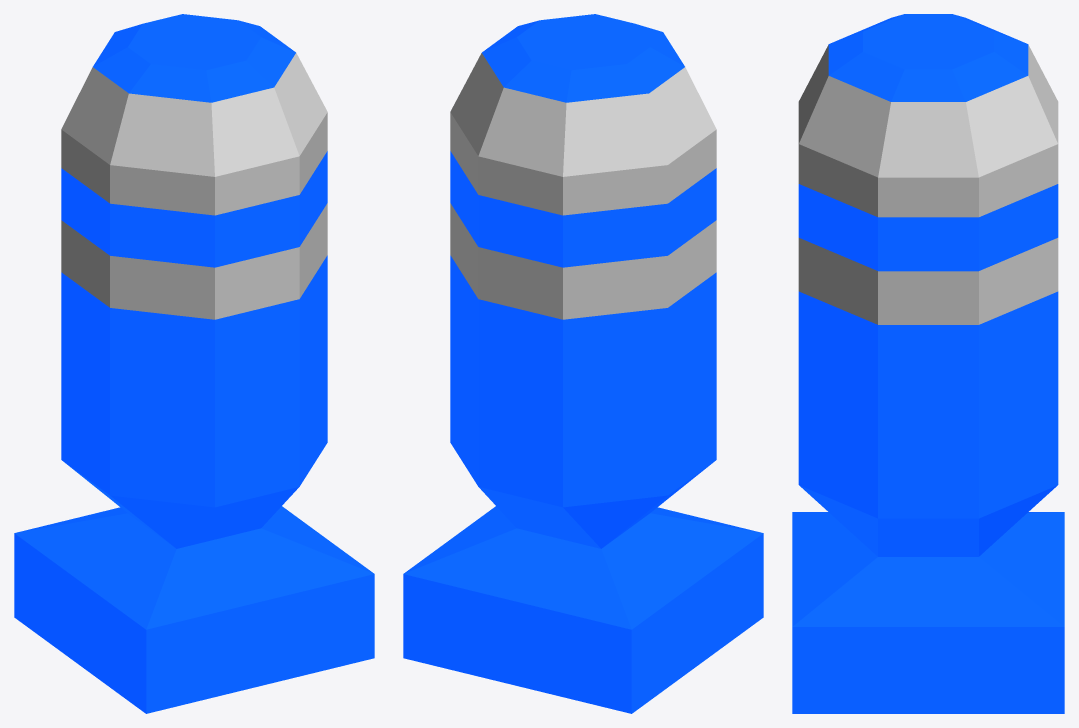
File: BombProjectile_Player.fbx
3 views of the same model, side by side, from view 1: azimuth 30°, elevation 25°; view 2: azimuth 150°, elevation 25°; view 3: azimuth 270°, elevation 25° (orthographic). The views are drawn at different scales.
Parts seen in each view (by area): view 1: Cube; view 2: Cube; view 3: Cube.
Part boxes in pixels (left/top/right/bottom): Cube: left=14, top=14, right=374, bottom=713; Cube: left=403, top=14, right=763, bottom=713; Cube: left=792, top=14, right=1064, bottom=713.
Size of the model in its own units: 1.83 by 4.56 by 1.83.
